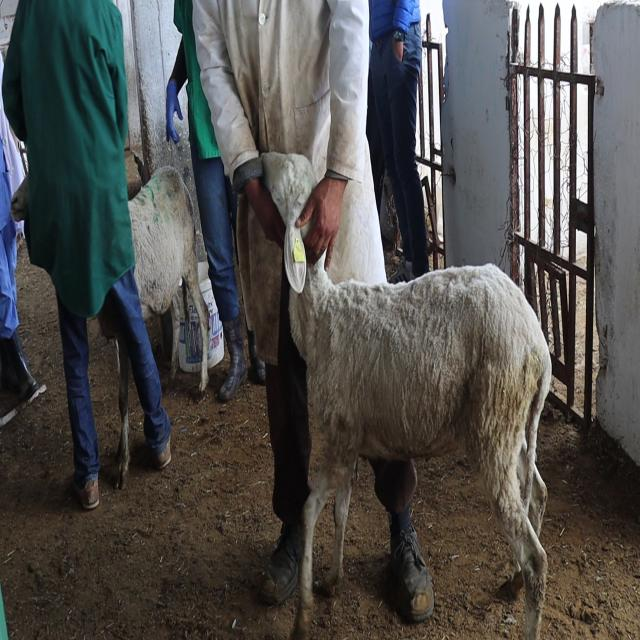Score_1: (261, 153, 551, 639)
